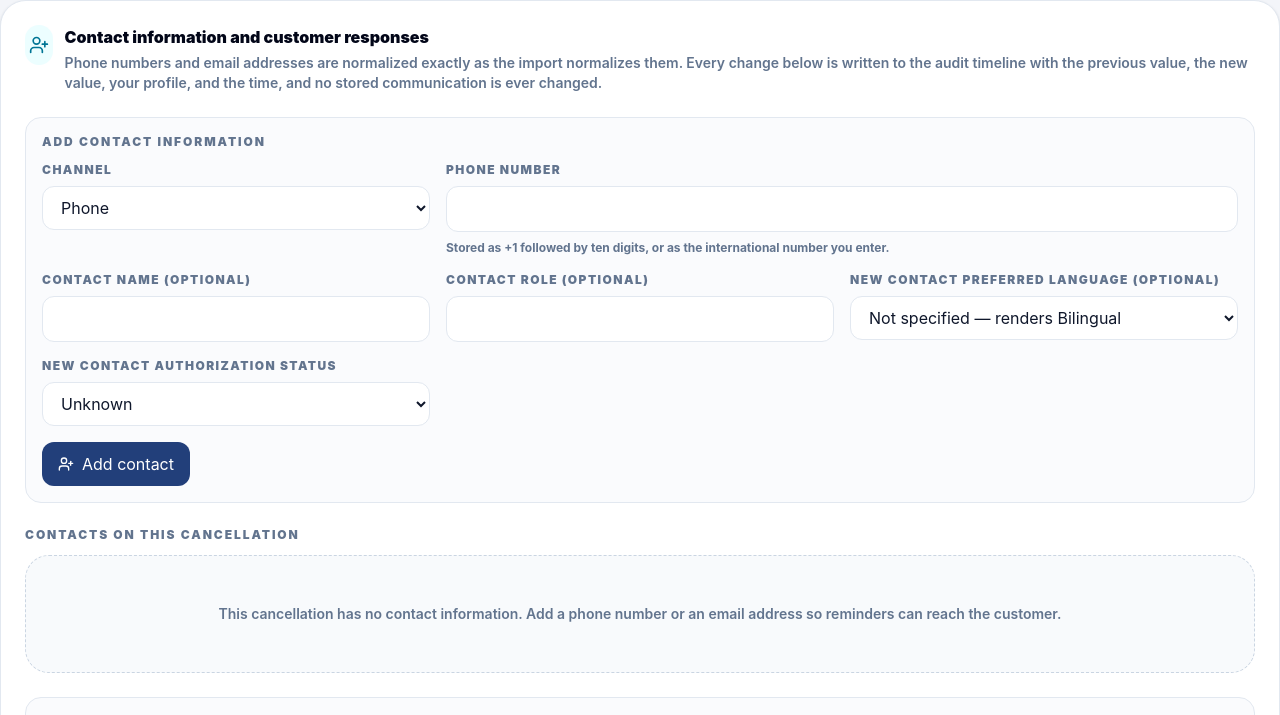
Test case: CancellationContactPanel › previews the stored contact value with the importer normalization
Type "(555) 987-6543" into the field labelled "Phone number" at (842, 209), box [446,186,1238,232]
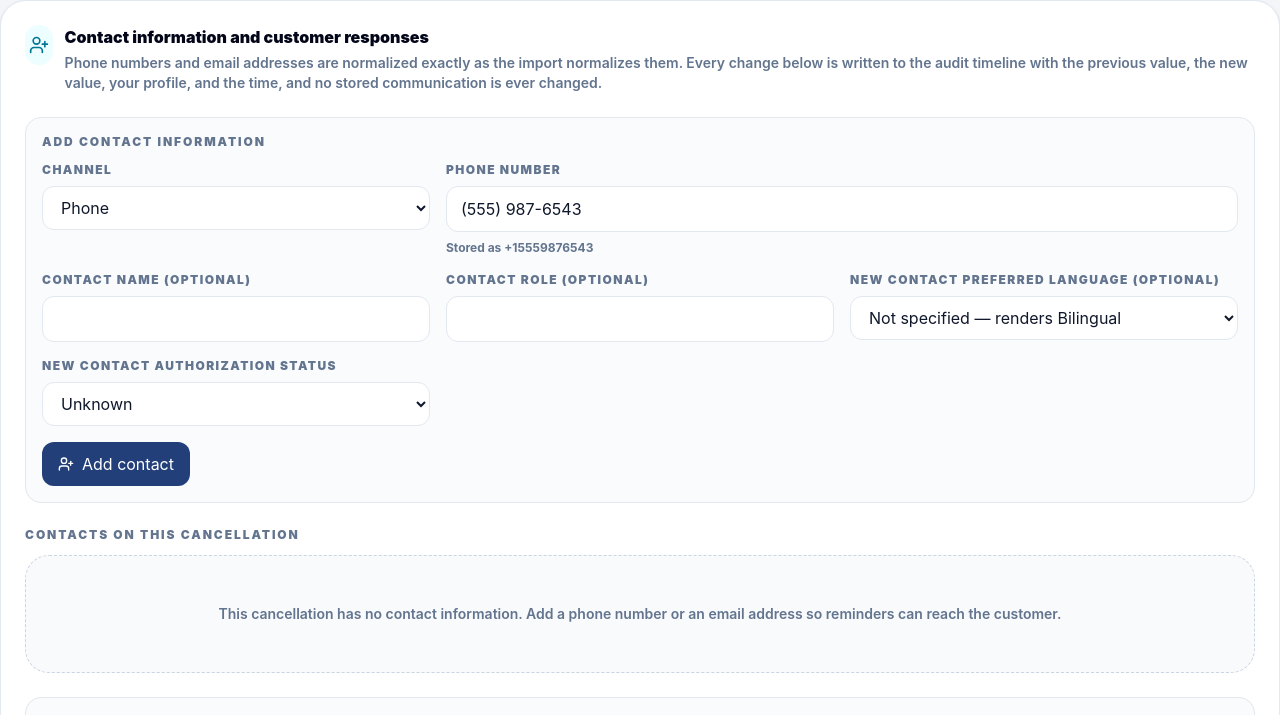
Expected: the text "Stored as +15559876543" is shown, [446,240,593,255]
Replace the text in the field labelled "Phone number" with "12345" at (842, 209), box [446,186,1238,232]
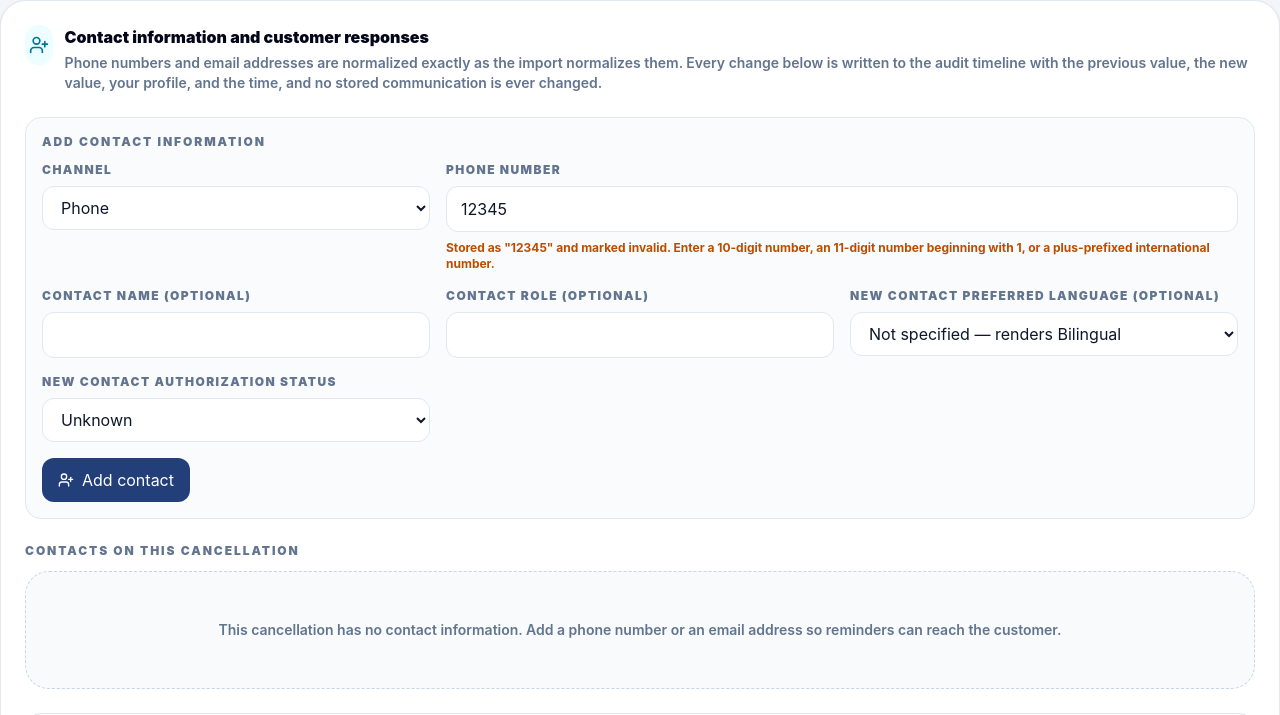
Expected: the text "marked invalid" is shown, [446,240,1210,271]
